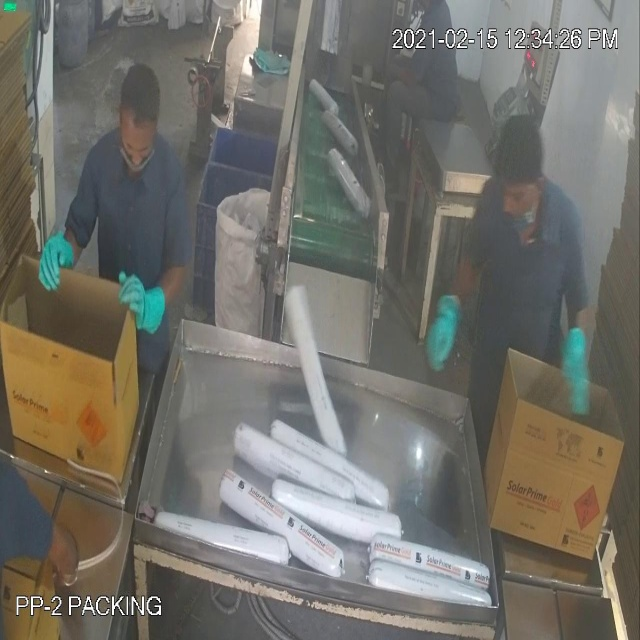Guantes: (111, 253, 176, 368), (411, 287, 470, 383), (555, 309, 598, 420), (34, 212, 80, 305)
Sin_guantes: (17, 476, 82, 596)
